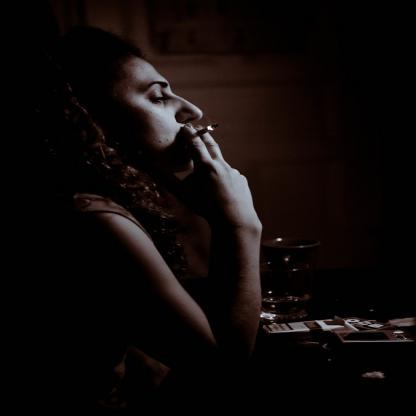smoking: (187, 123, 220, 138)
